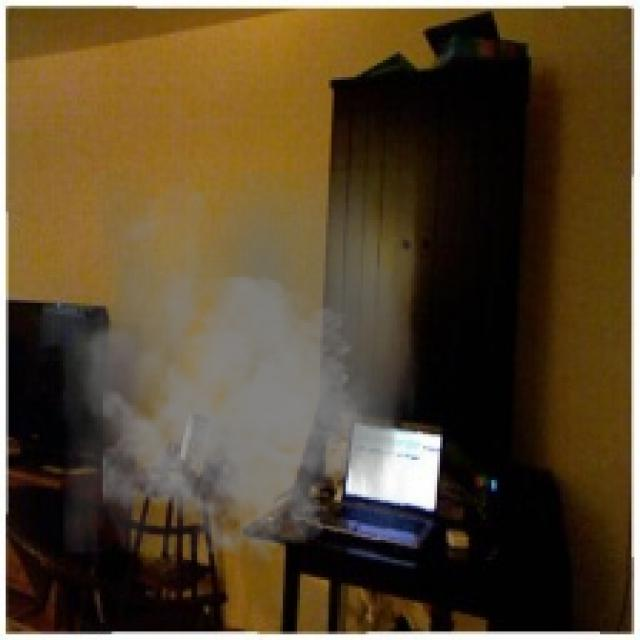smoke: (63, 171, 420, 566)
